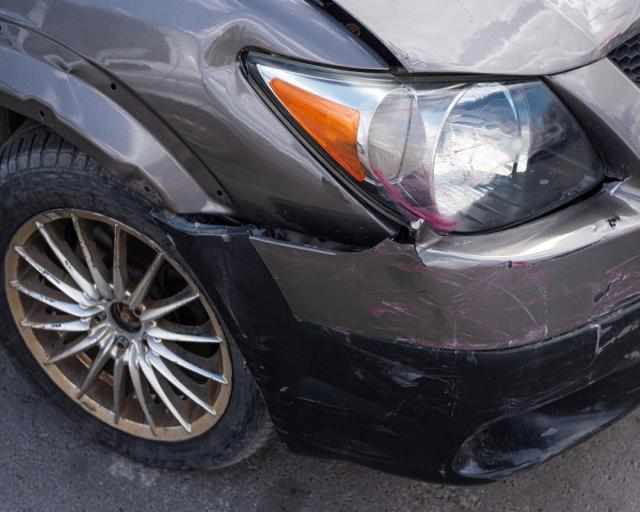crack: (606, 174, 633, 184)
dent: (202, 20, 310, 167)
scratch: (369, 235, 640, 387)
